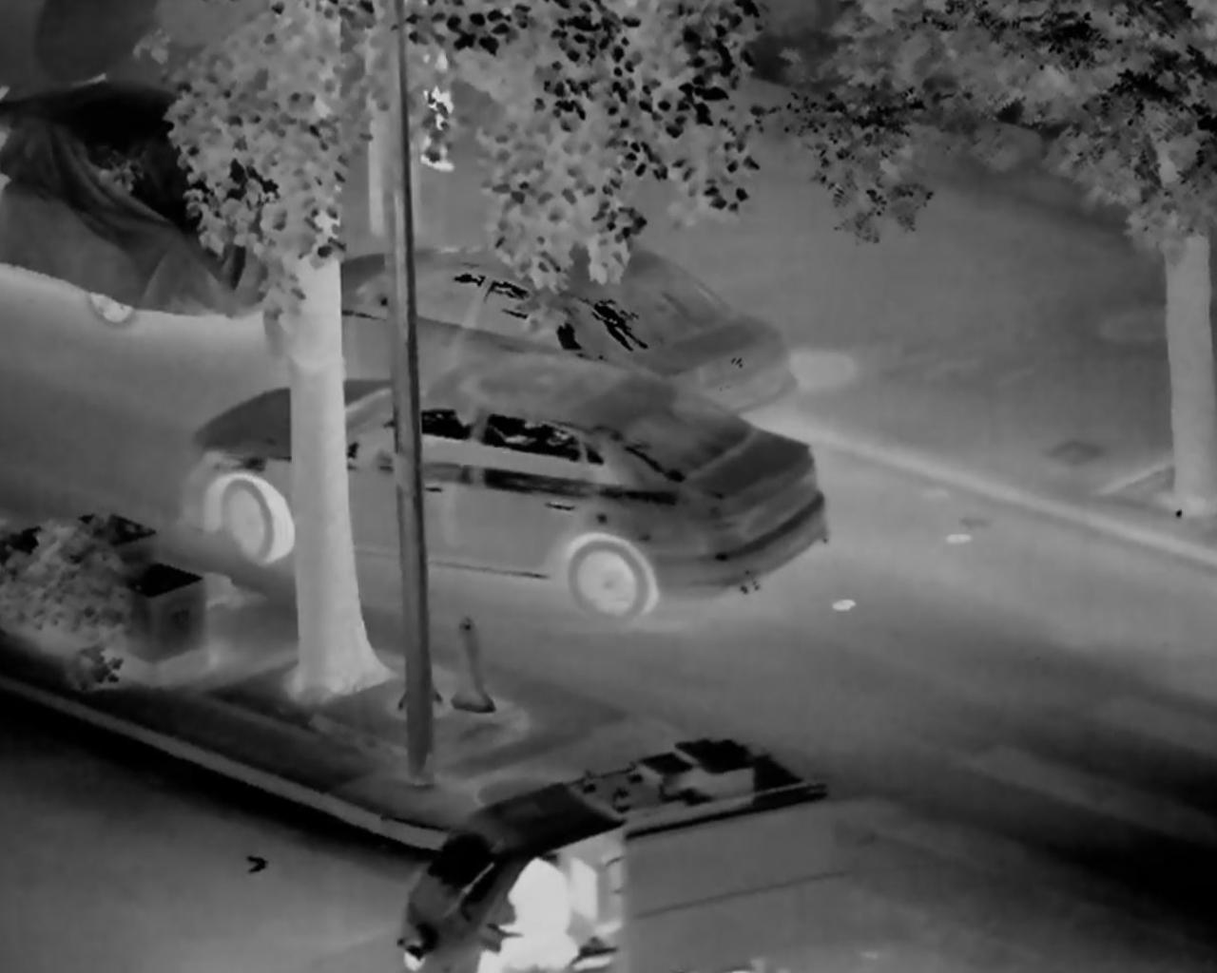person: (487, 860, 576, 973), (416, 31, 463, 185)
